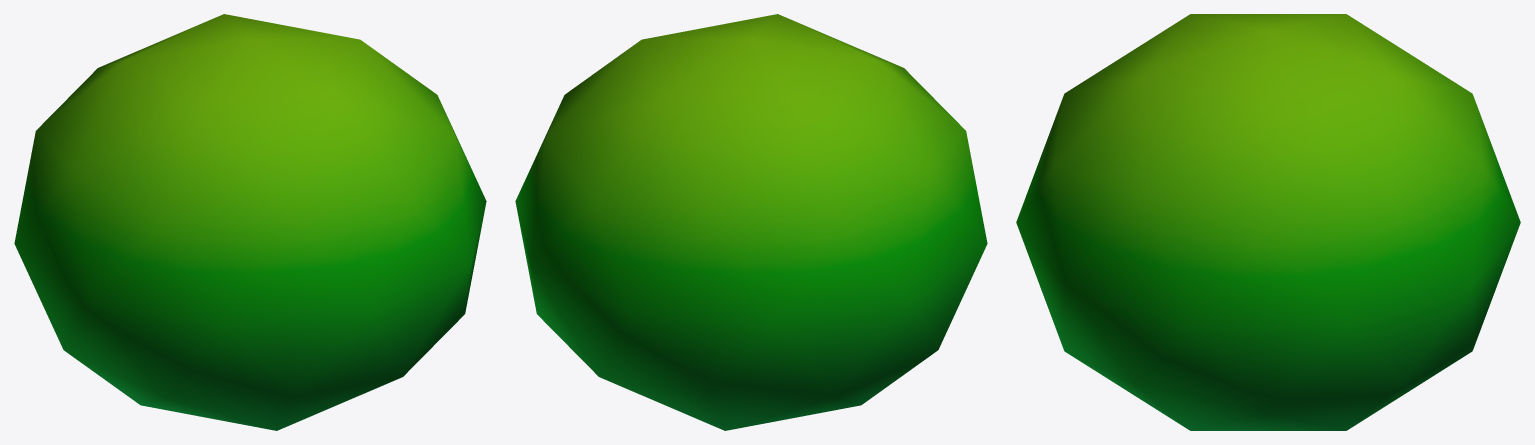
File: Bush.fbx
3 renders of one model, left to right at view 1: azimuth 30°, elevation 25°; view 2: azimuth 150°, elevation 25°; view 3: azimuth 270°, elevation 25°, orthographic. The views are drawn at different scales.
Visible parts, largest first — view 1: Bush; view 2: Bush; view 3: Bush.
Boxes of the visible parts, box(x1,y1,x2,y2) form: Bush: box(14, 14, 486, 430); Bush: box(515, 14, 987, 430); Bush: box(1016, 14, 1520, 430).
Bounding box in the file's own units: 64.7 × 52.8 × 68.03.
